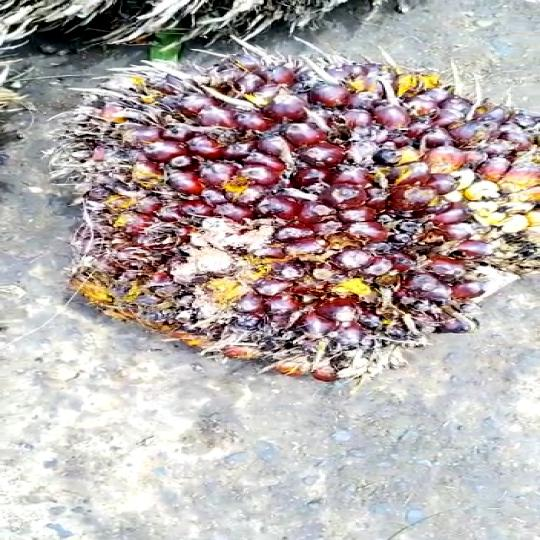masak: (66, 54, 540, 385)
